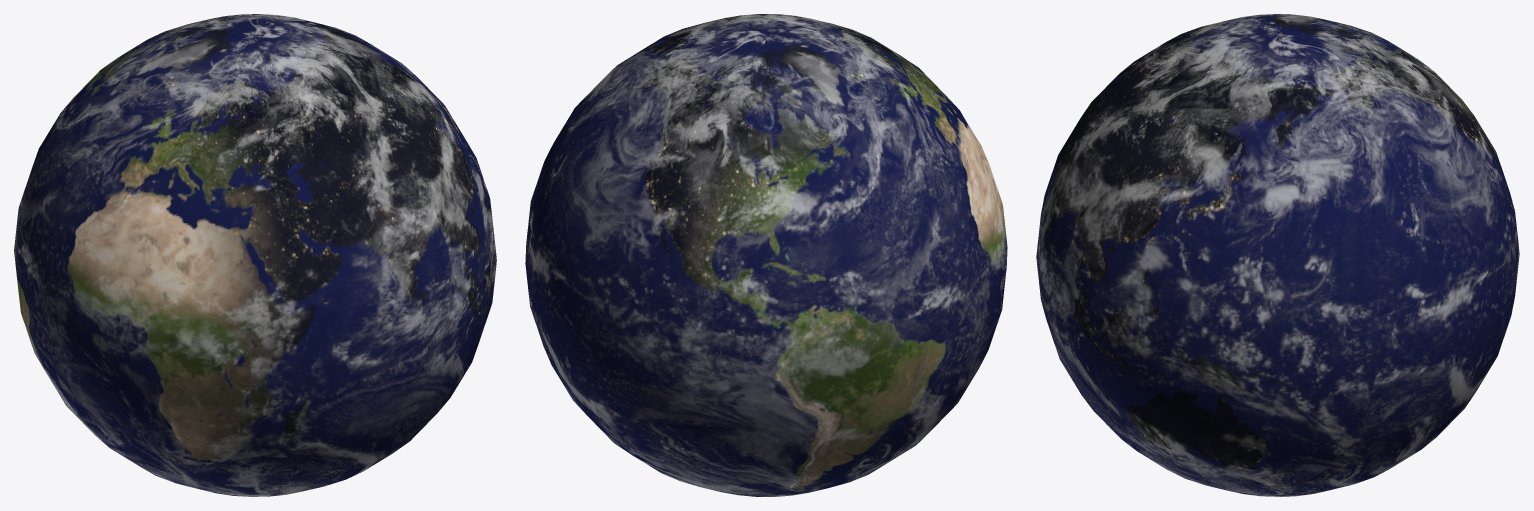
Rendered from Jorden.glb.
3 views of the same model, side by side, from view 1: azimuth 30°, elevation 25°; view 2: azimuth 150°, elevation 25°; view 3: azimuth 270°, elevation 25° (orthographic).
Visible parts, largest first — view 1: Earth; view 2: Earth; view 3: Earth.
Part boxes in pixels (x1,y1,x2,y2): Earth: (14, 14, 496, 496); Earth: (525, 14, 1007, 496); Earth: (1036, 14, 1519, 496).
Bounding box in the file's own units: 0.8999 × 0.9 × 0.8999.
Materials: 1 (1 with a texture image).
